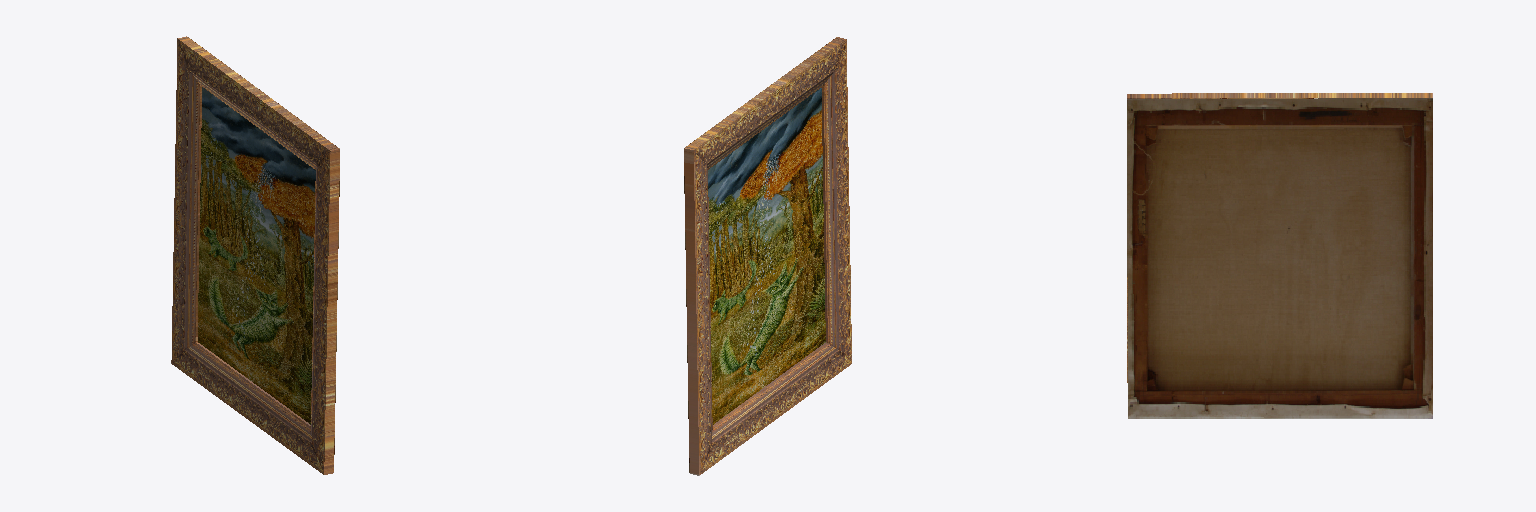
3 views of the same model, side by side, from view 1: azimuth 30°, elevation 25°; view 2: azimuth 150°, elevation 25°; view 3: azimuth 270°, elevation 25° (orthographic).
Visible parts, largest first — view 1: Canvas, Frame; view 2: Canvas, Frame; view 3: Back, Frame.
Part boxes in pixels (x1,y1,x2,y2): Canvas: (198,87,315,424); Frame: (171,36,339,474); Canvas: (708,88,825,424); Frame: (684,37,851,475); Back: (1127,98,1432,418); Frame: (1127,93,1432,382).
Size of the model in its own units: 2.72 by 52.78 by 45.21.
Materials: 2 (2 with a texture image).